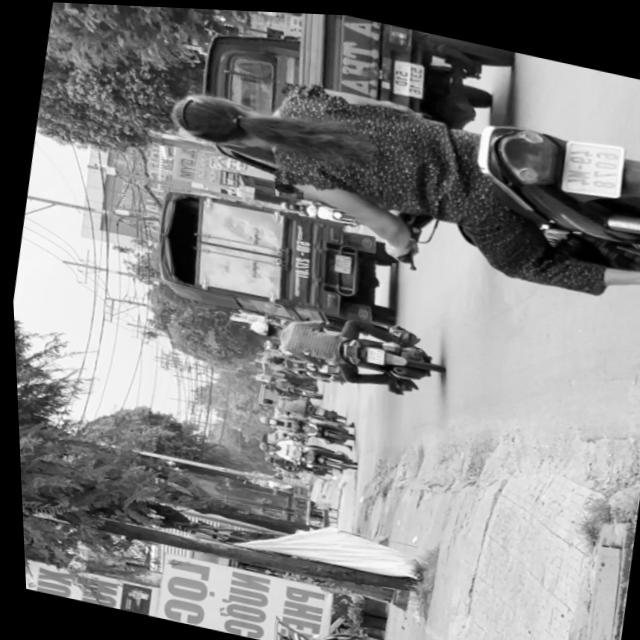helmet: (244, 314, 274, 336)
licenseplate: (142, 33, 640, 318), (237, 299, 443, 399)
motorcyclist: (167, 83, 269, 154)
nohelmet: (556, 130, 624, 196), (360, 342, 382, 361)
